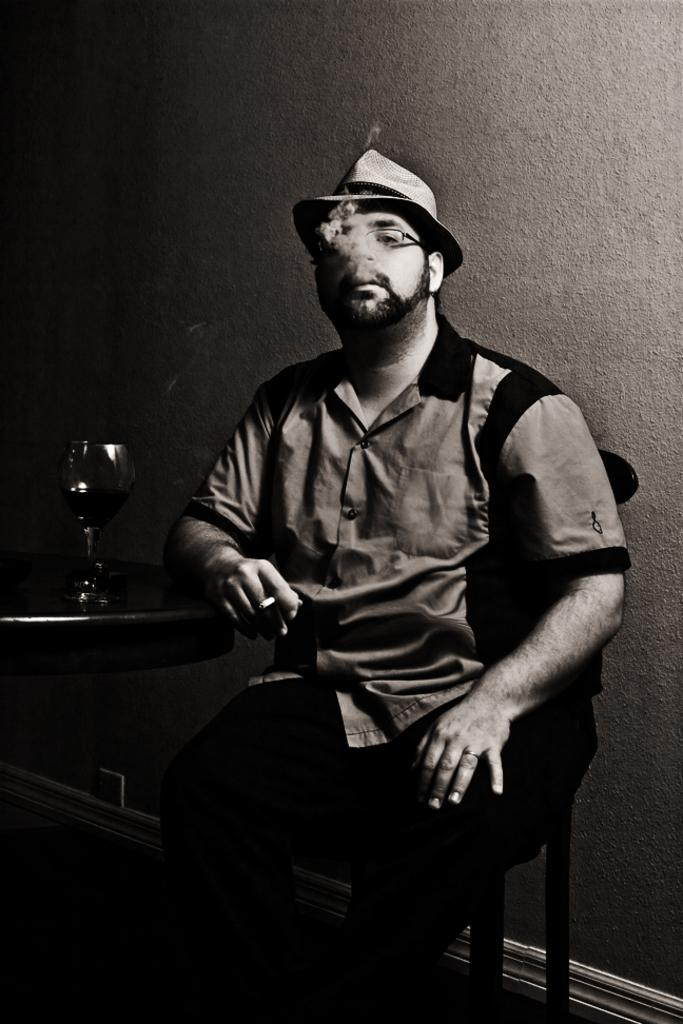Hat: (292, 148, 464, 278)
